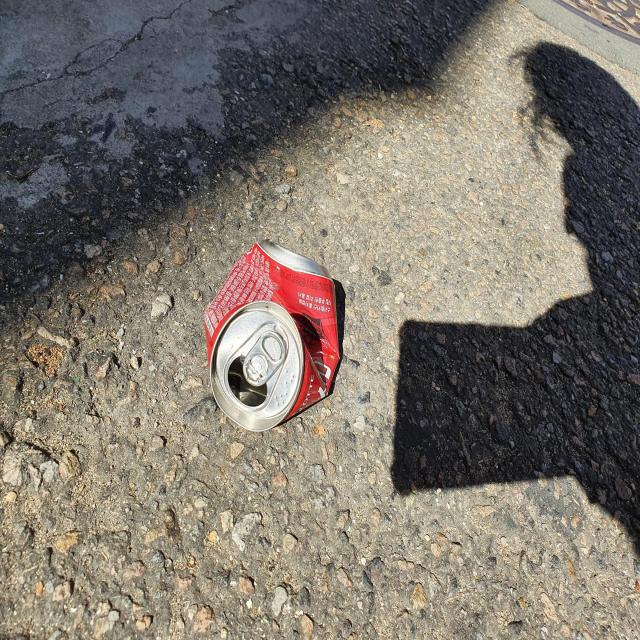can: (204, 240, 340, 431)
